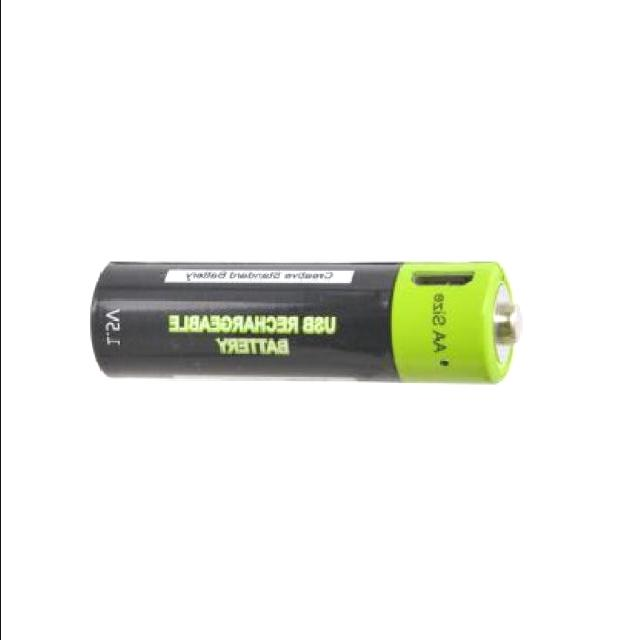AA: (87, 256, 521, 385)
